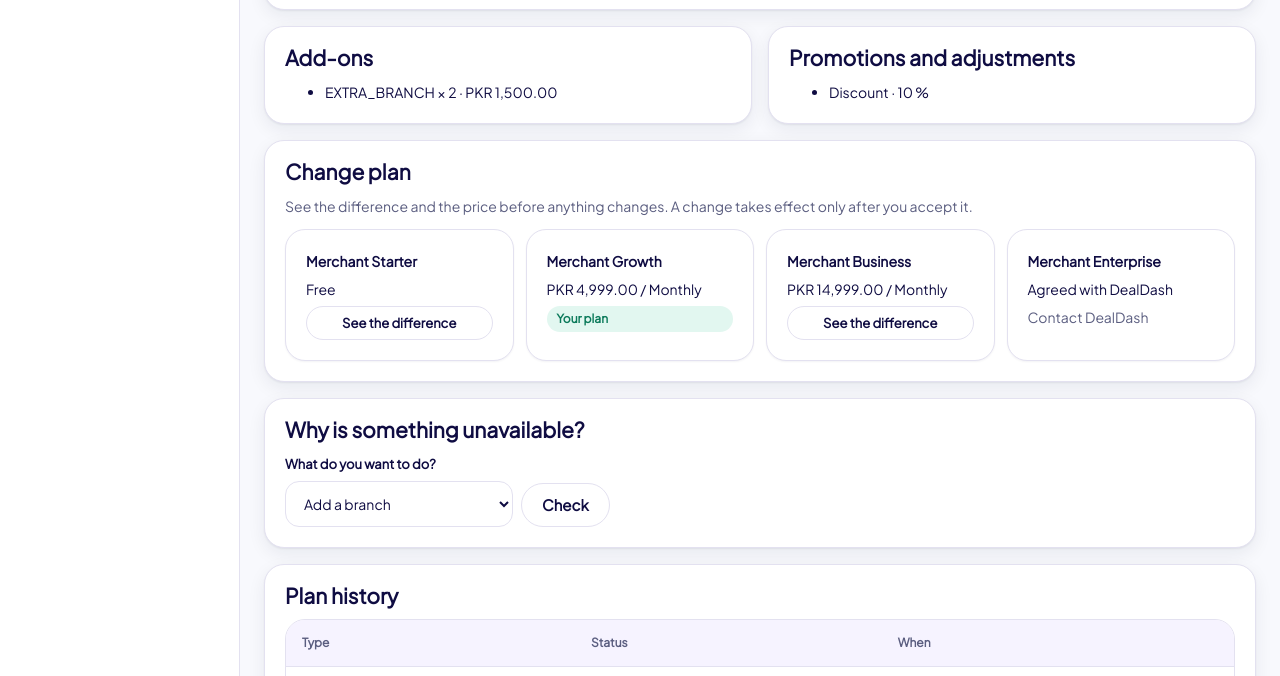
Test: Merchant plan and usage › a Finance user sees the plan but cannot accept, request or stop renewal
(page scrolled)
Click the button "See the difference" below "PKR 14,999.00 / Monthly" at coordinates (880, 323), box [787,306,974,340]
(page scrolled)
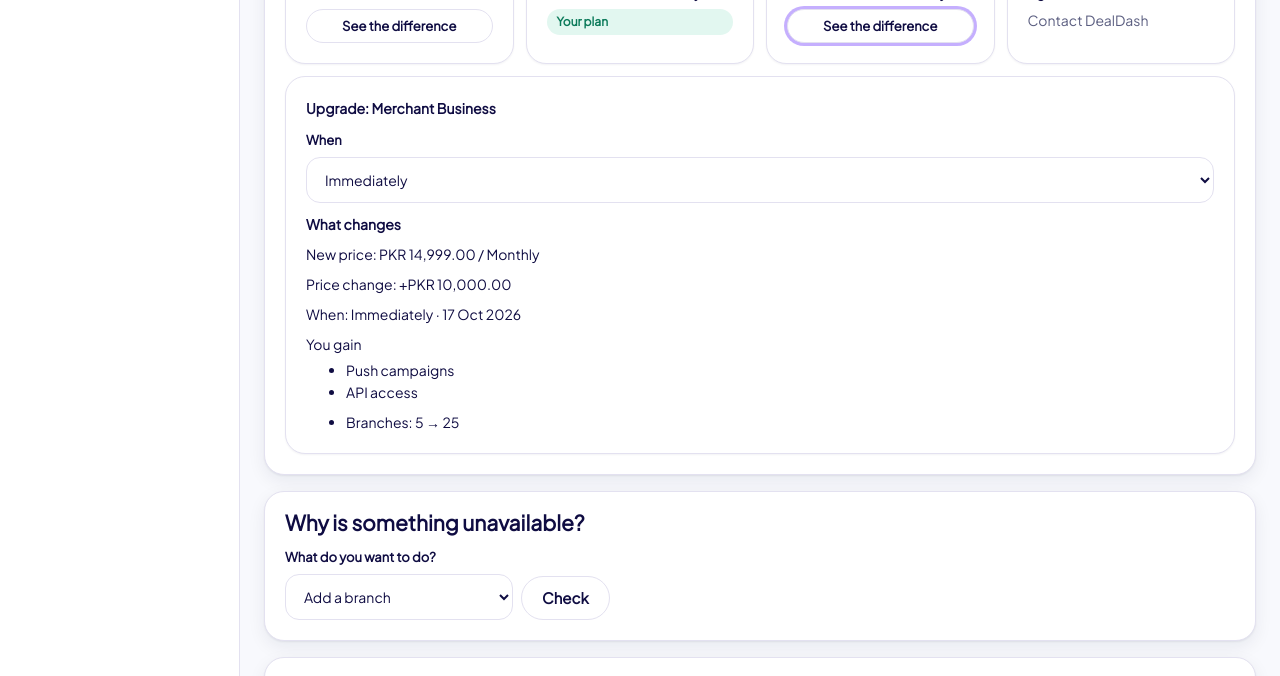
Expected: the element with test id "sb-impact" is shown, [306,215,540,431]
